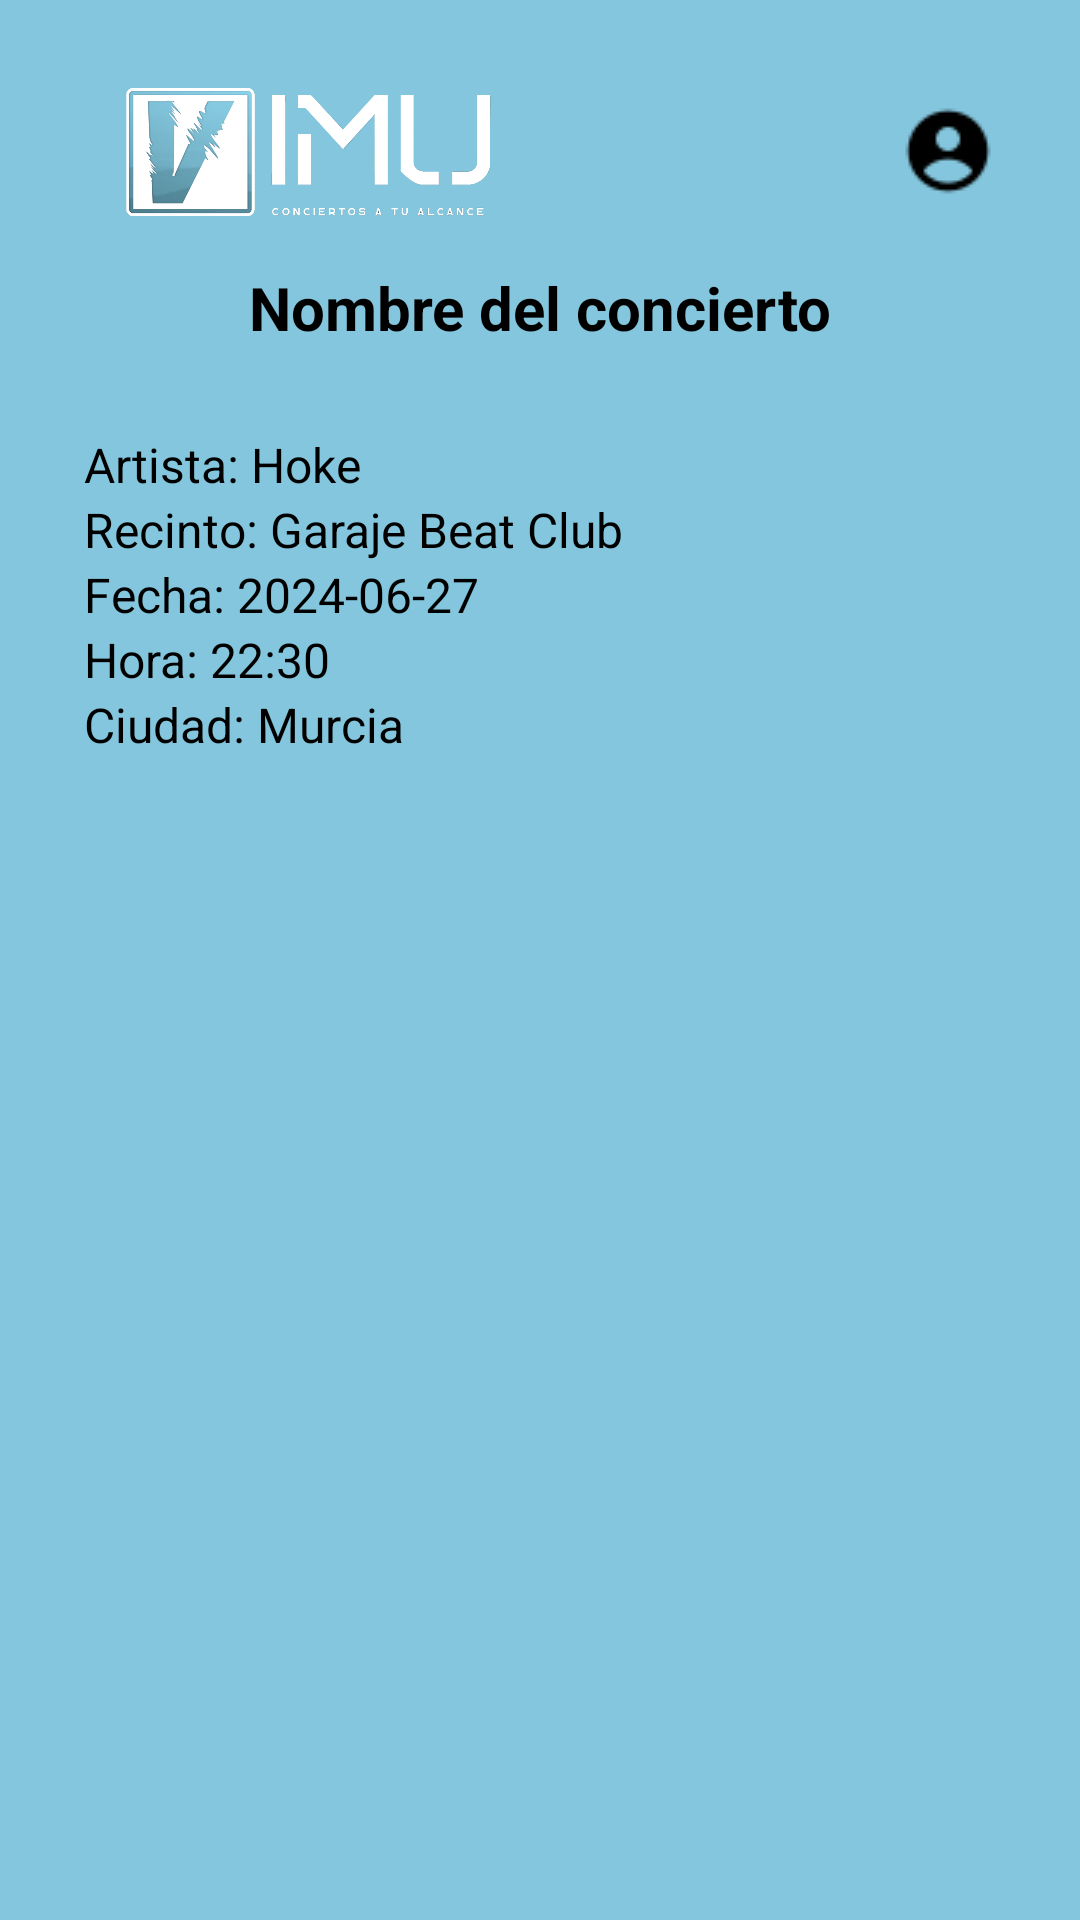

Icons on this 1080×1920 Android screen, each with the point to tap as (x,y):
Perfil: (948,151)
